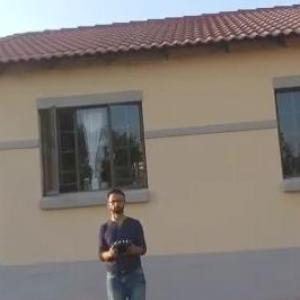follow: (94, 183, 156, 299)
